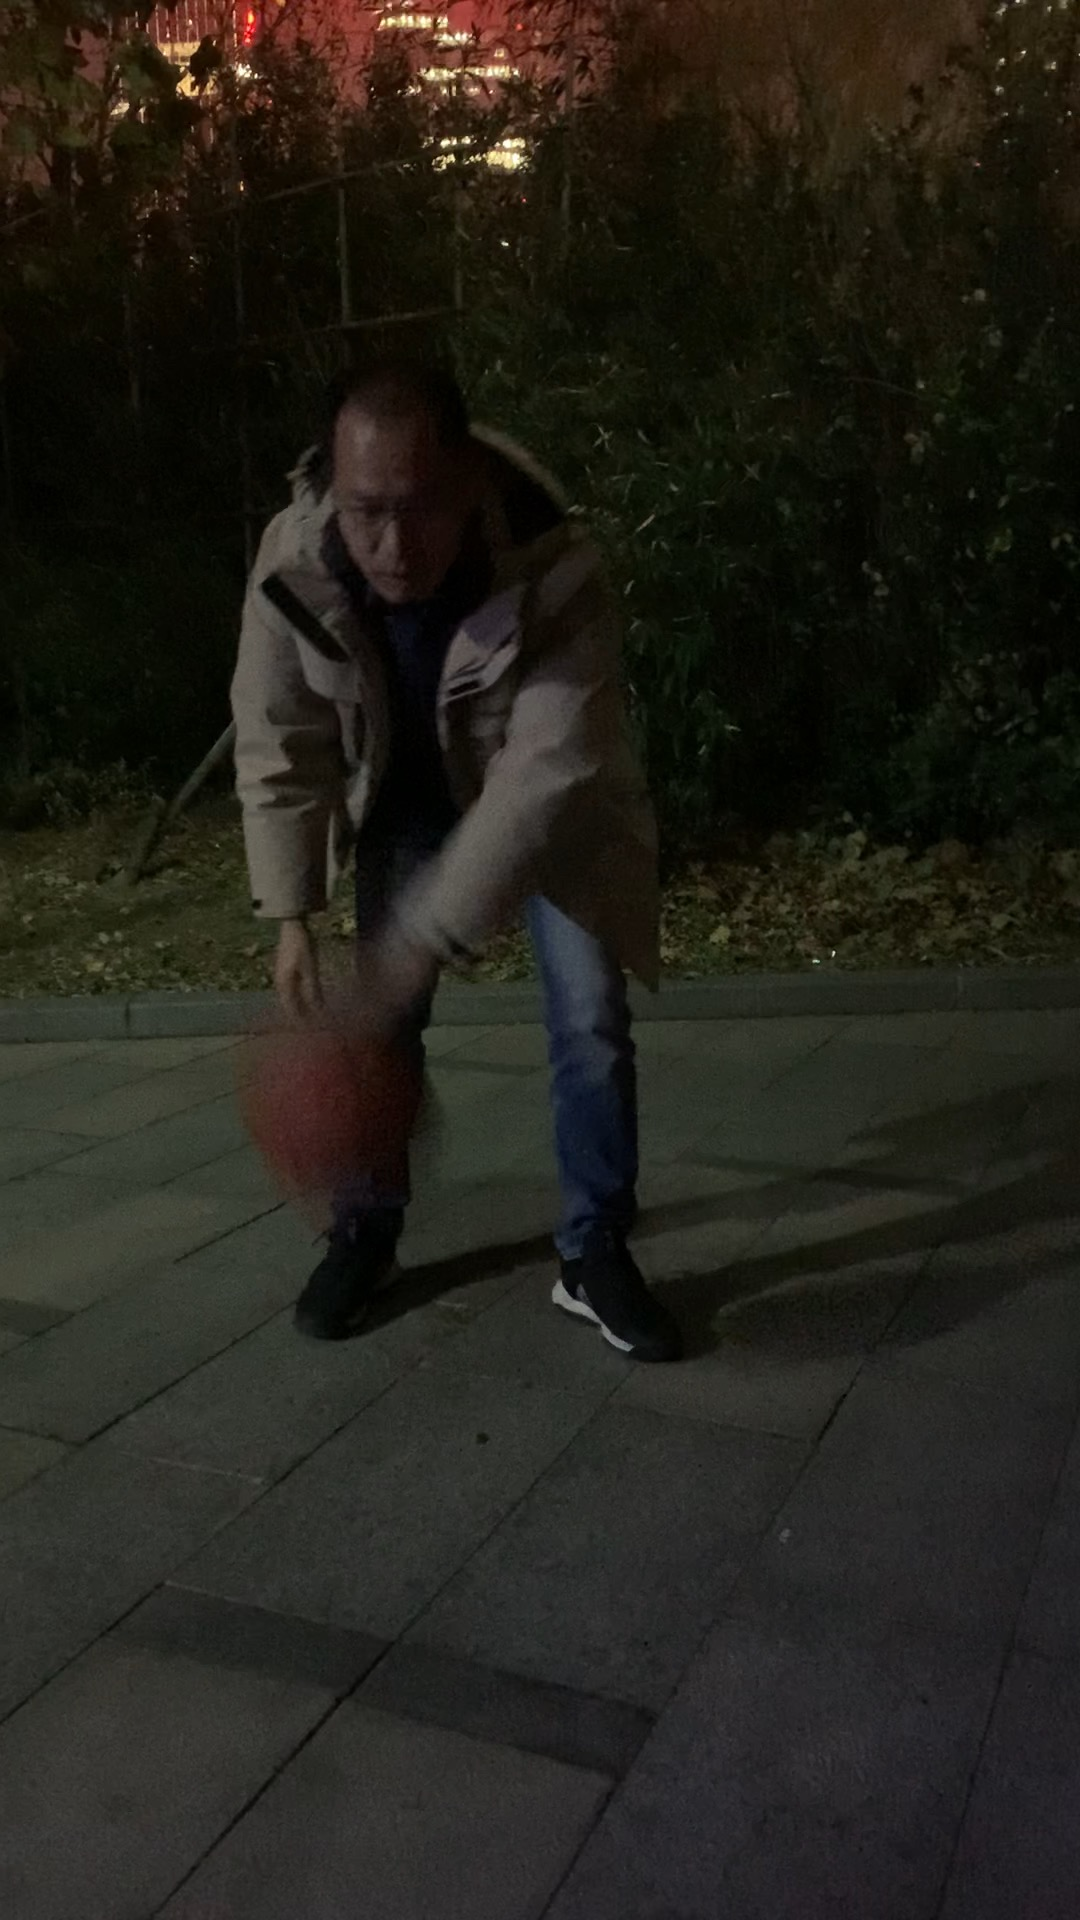ball: (251, 1025, 446, 1203)
